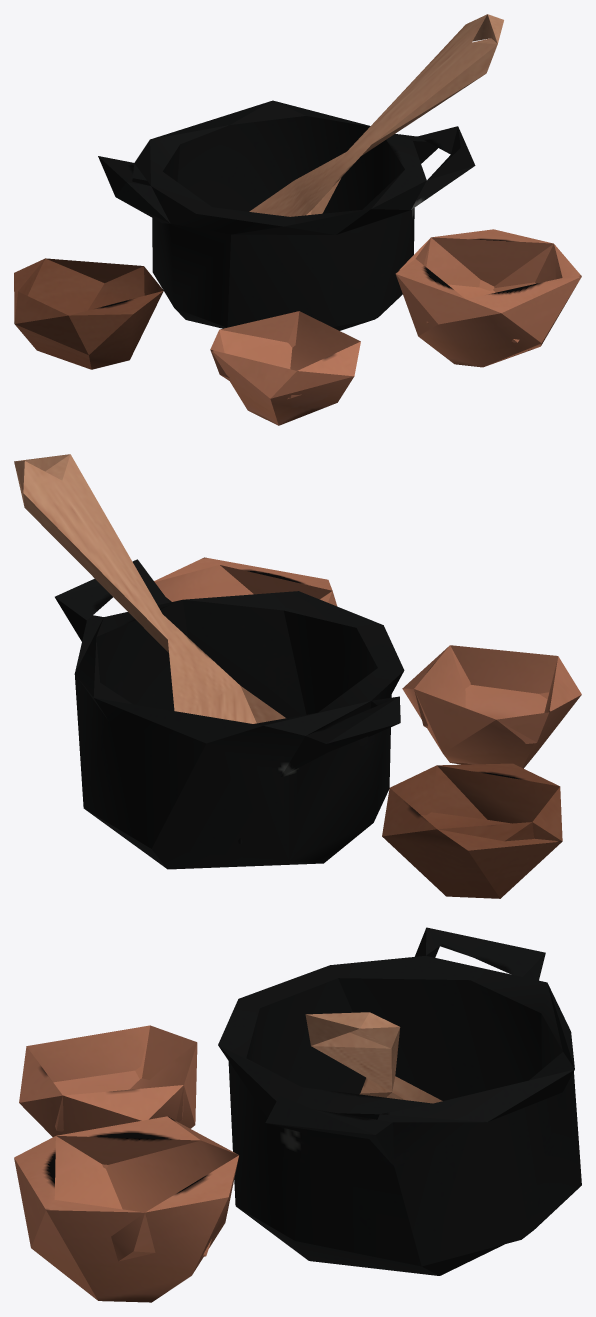
The model's file is utensils_lod0.glb.
3 views of the same model, one above another, from view 1: azimuth 30°, elevation 25°; view 2: azimuth 150°, elevation 25°; view 3: azimuth 270°, elevation 25° (orthographic). The views are drawn at different scales.
Visible parts, largest first — view 1: low; view 2: low; view 3: low.
Boxes of the visible parts, x1,y1,x2,y2 form: low: (14, 14, 581, 425); low: (14, 454, 581, 898); low: (14, 927, 581, 1302).
Size of the model in its own units: 0.5058 by 0.259 by 0.3971.
1 material, 1 textured.
